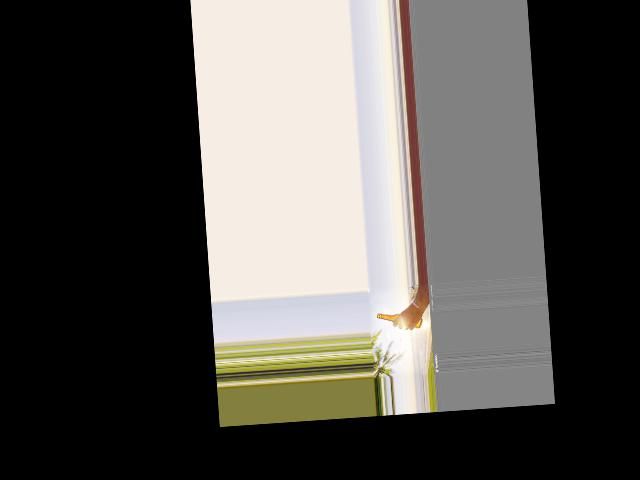beer: (377, 309, 423, 330)
